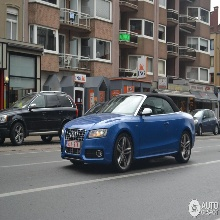no damage: (62, 93, 196, 172), (1, 91, 78, 147)
